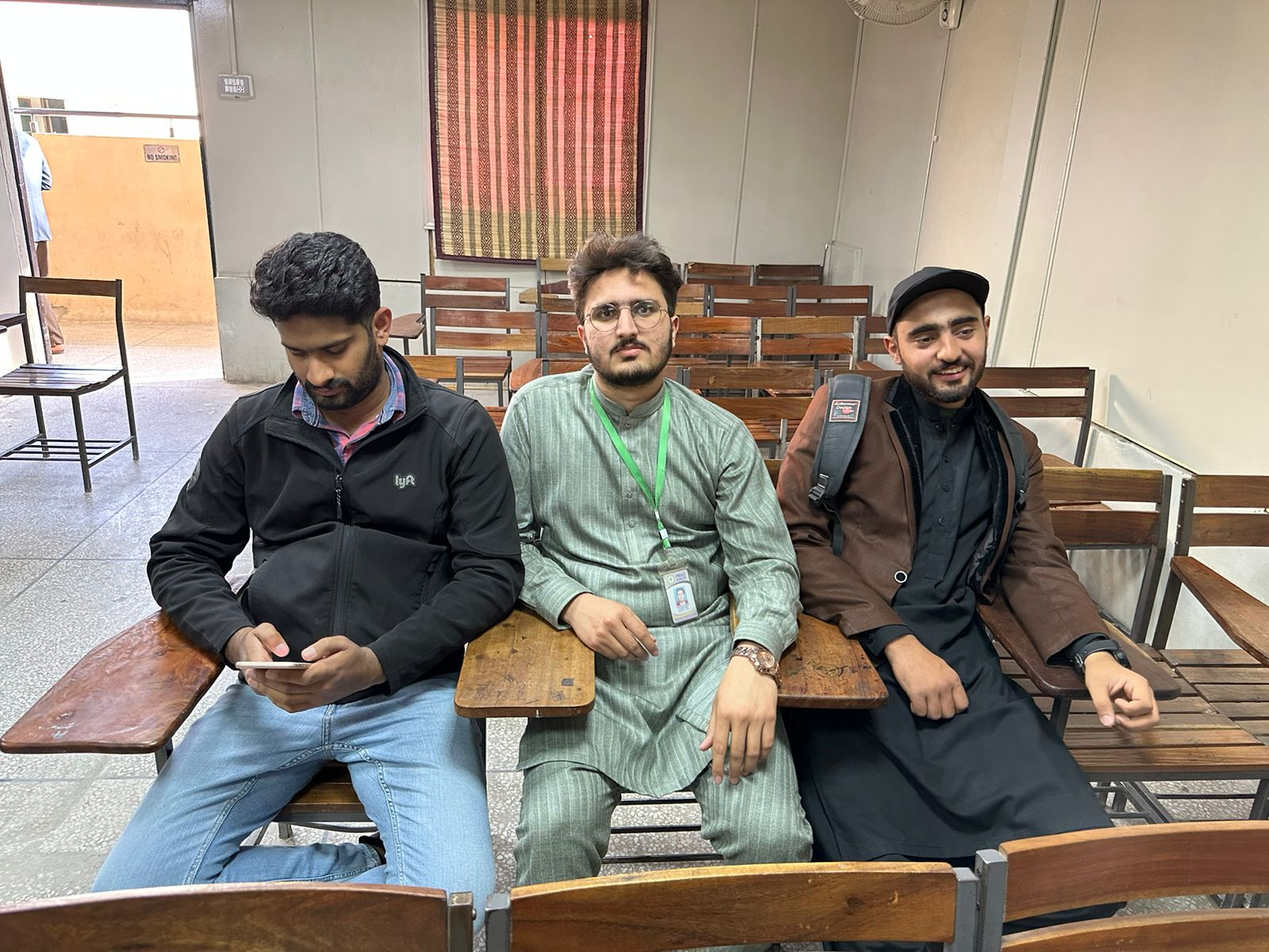non-cheating: (566, 231, 683, 391)
phone: (227, 621, 386, 715)
